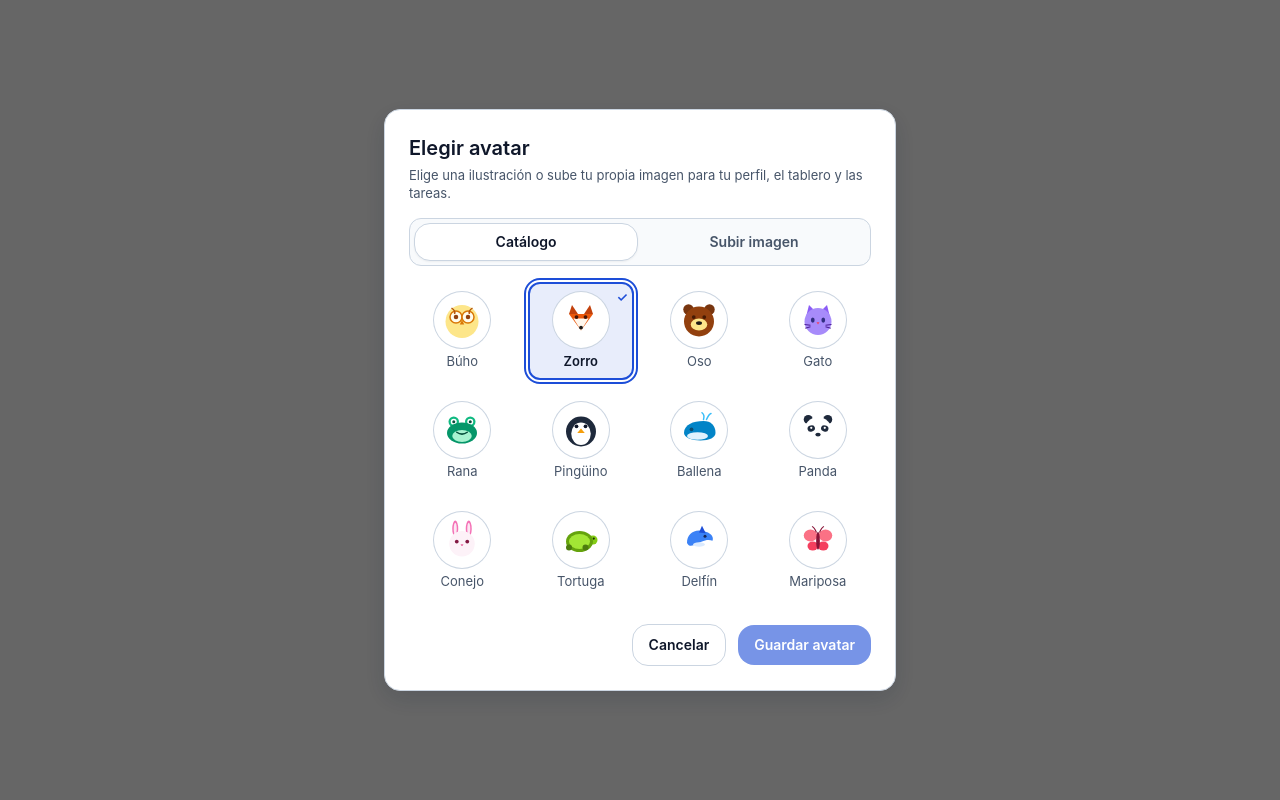
Test case: <AvatarPicker> · pestañas › «Subir imagen» muestra «Elegir archivo» y los formatos admitidos
Click the tab "Subir imagen" at coordinates (754, 242), box x1=642 y1=223 x2=866 y2=261
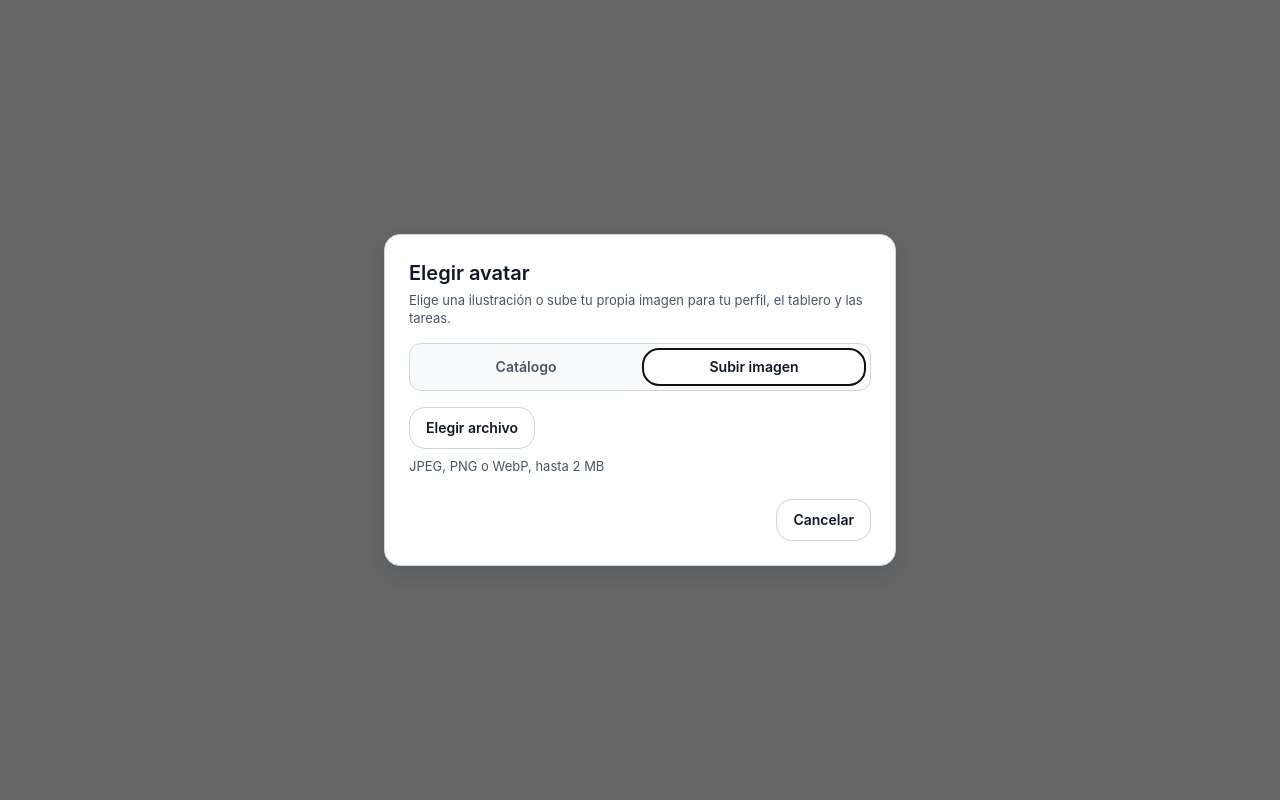
Result: the panel named "Subir imagen" is shown at x1=409 y1=407 x2=604 y2=474
Result: the text "JPEG, PNG o WebP, hasta 2 MB" is shown at x1=409 y1=457 x2=604 y2=475
Result: the button "Guardar avatar" is gone
